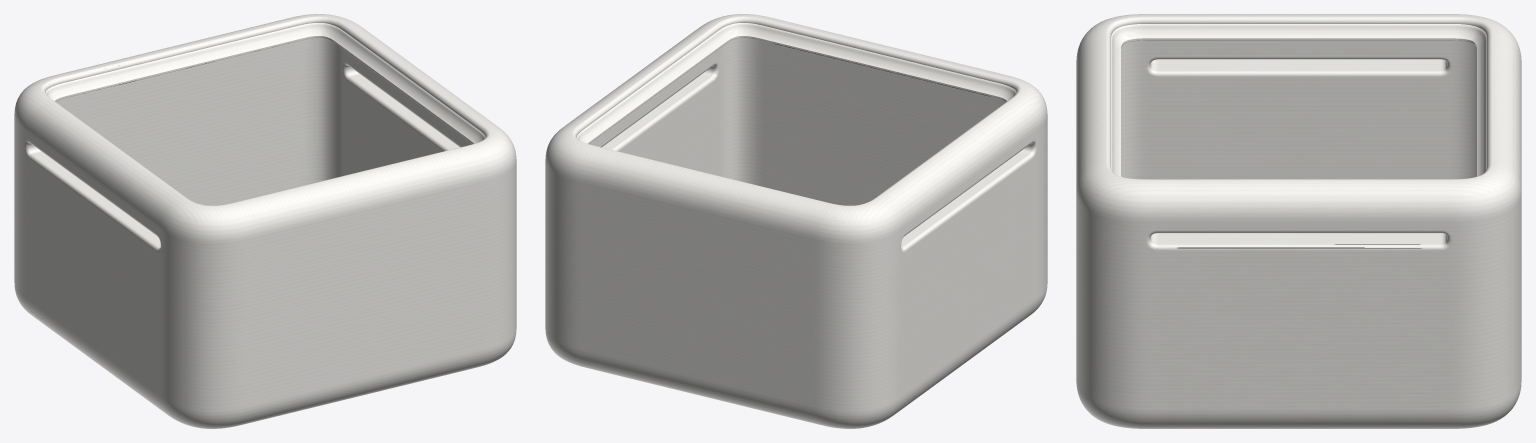
Rendered from incense-burner-no-lid.glb.
3 views of the same model, side by side, from view 1: azimuth 30°, elevation 25°; view 2: azimuth 150°, elevation 25°; view 3: azimuth 270°, elevation 25° (orthographic). The views are drawn at different scales.
Size of the model in its own units: 0.09 by 0.055 by 0.09.
1 material, 1 textured.
